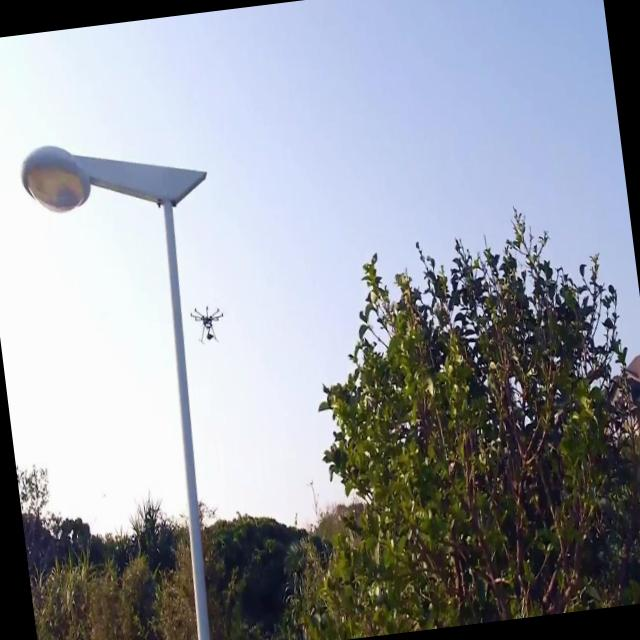drone: (188, 301, 228, 348)
